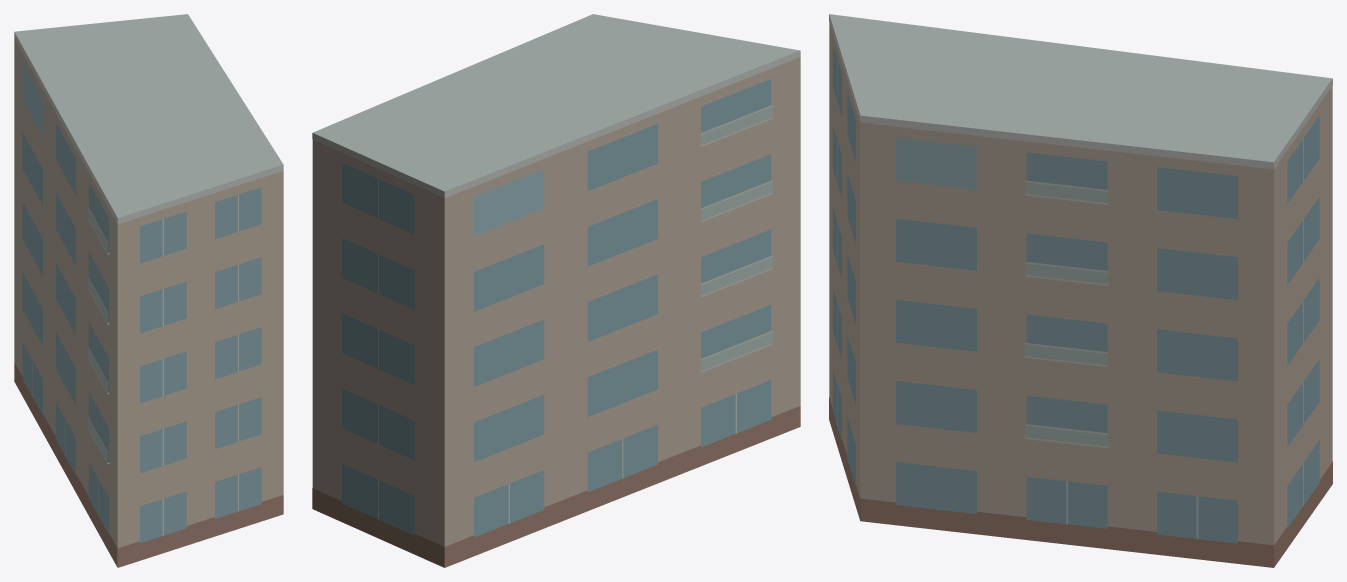
File: survey-upis-33035934.glb
3 renders of one model, left to right at view 1: azimuth 30°, elevation 25°; view 2: azimuth 150°, elevation 25°; view 3: azimuth 270°, elevation 25°, orthographic. The views are drawn at different scales.
Visible parts, largest first — view 1: survey-upis-33035934.tmp; view 2: survey-upis-33035934.tmp; view 3: survey-upis-33035934.tmp.
Part boxes in pixels (x1=…): survey-upis-33035934.tmp: x1=14, y1=14, x2=283, y2=567; survey-upis-33035934.tmp: x1=312, y1=14, x2=800, y2=567; survey-upis-33035934.tmp: x1=829, y1=14, x2=1332, y2=567.
Size of the model in its own units: 10.83 by 13.8 by 15.54.
